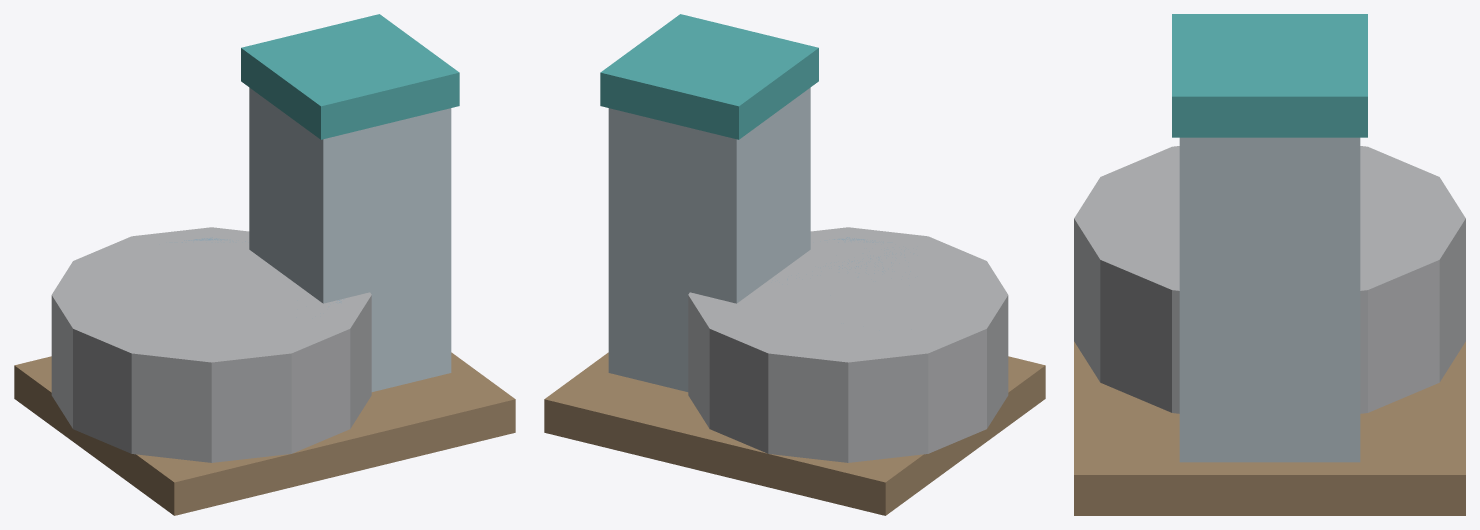
File: pets_bebedouro.glb
The picture shows the model from 3 angles, left to right: view 1: azimuth 30°, elevation 25°; view 2: azimuth 150°, elevation 25°; view 3: azimuth 270°, elevation 25°; orthographic projection. The views are drawn at different scales.
Visible parts, largest first — view 1: PETS_BEBEDOURO_v01; view 2: PETS_BEBEDOURO_v01; view 3: PETS_BEBEDOURO_v01.
Boxes of the visible parts, x1,y1,x2,y2 form: PETS_BEBEDOURO_v01: (14, 14, 515, 515); PETS_BEBEDOURO_v01: (544, 14, 1045, 515); PETS_BEBEDOURO_v01: (1074, 14, 1465, 515).
Bounding box in the file's own units: 0.34 × 0.3 × 0.26.
